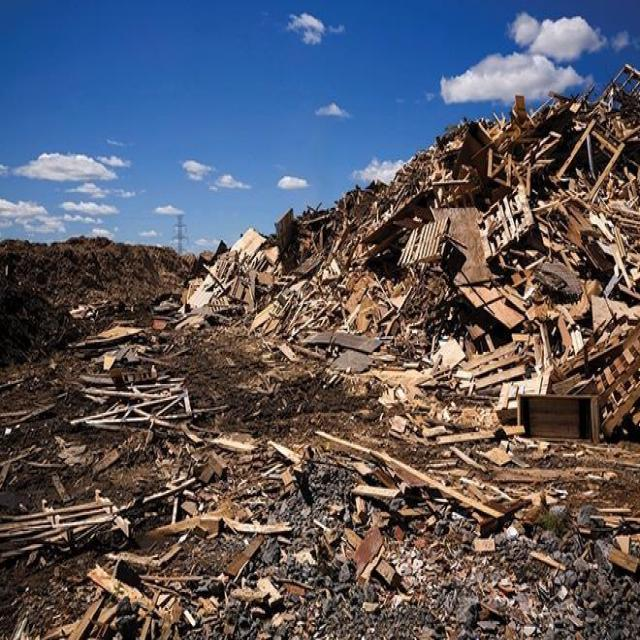green waste: (45, 79, 631, 640)
